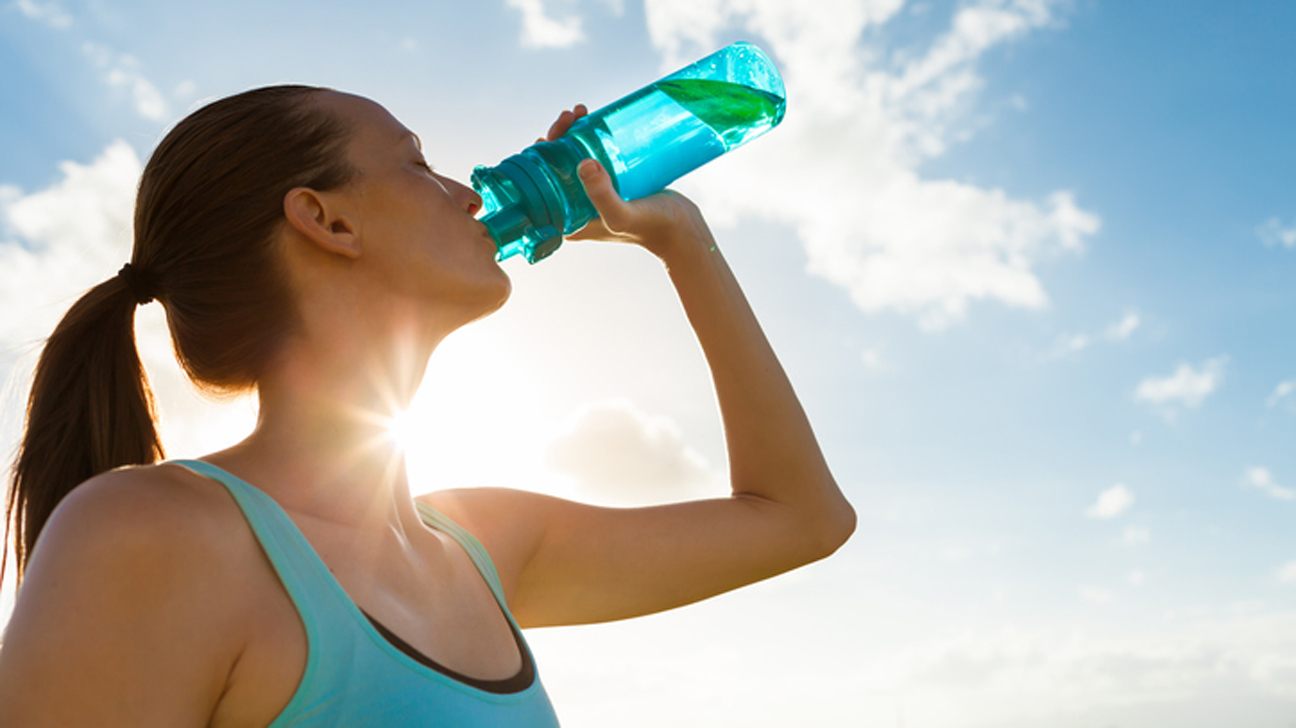drinking: (47, 7, 852, 673)
